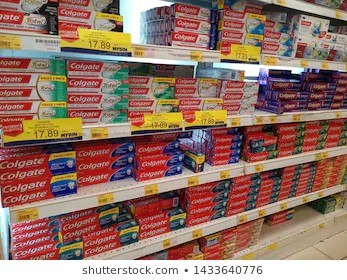colgate-family: (1, 149, 75, 183), (2, 174, 77, 206), (127, 75, 174, 99), (296, 18, 330, 35)
